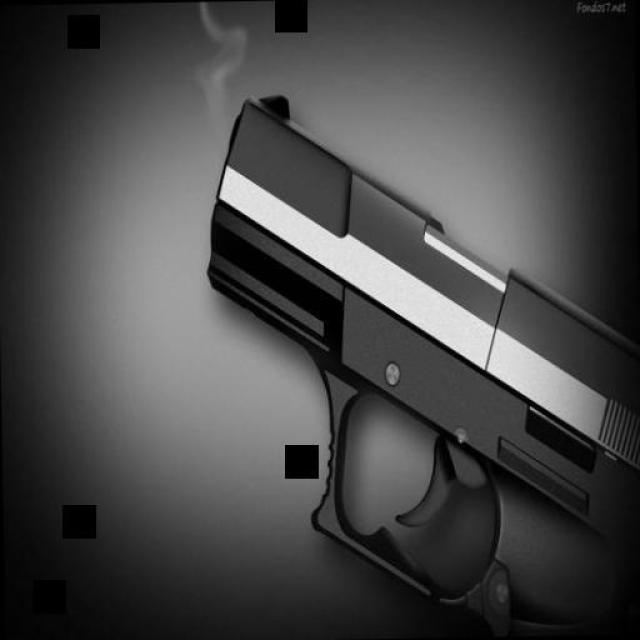gun: (209, 72, 640, 638)
